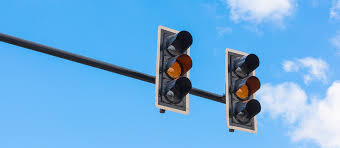signal: (226, 49, 263, 134), (161, 28, 193, 113)
